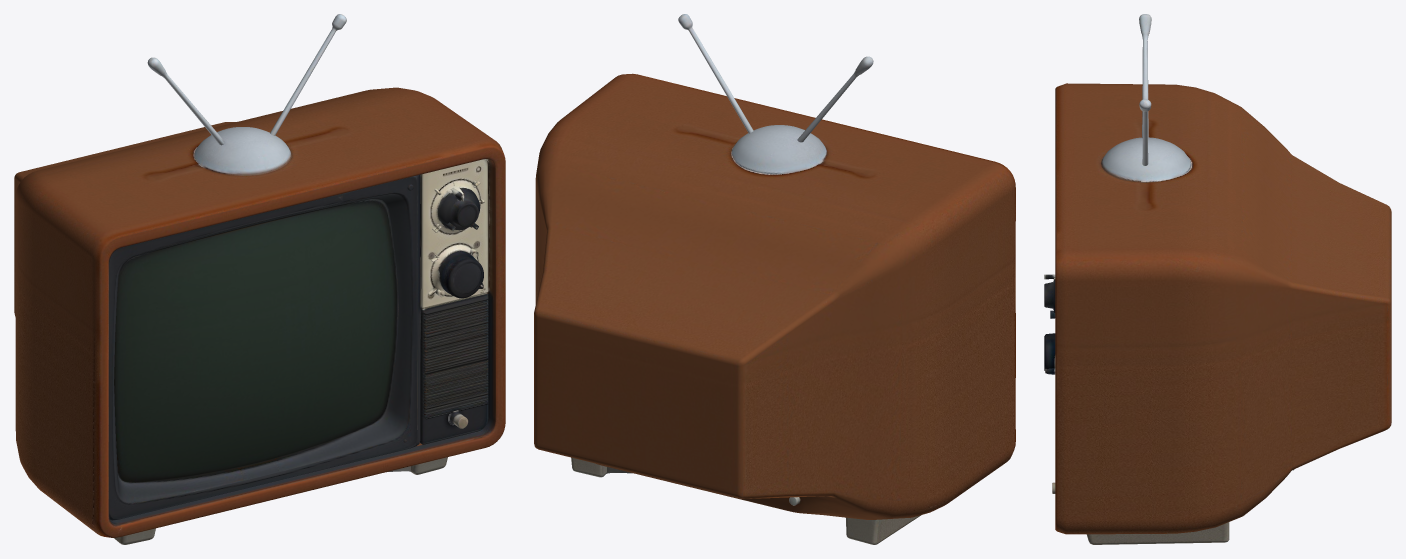
The model's file is tripo_convert_64b0368b-ca04-4807-9e11-103172707024.fbx.
3 renders of one model, left to right at view 1: azimuth 30°, elevation 25°; view 2: azimuth 150°, elevation 25°; view 3: azimuth 270°, elevation 25°, orthographic. The views are drawn at different scales.
Visible parts, largest first — view 1: tripo_node_64b0368b; view 2: tripo_node_64b0368b; view 3: tripo_node_64b0368b.
Boxes of the visible parts, <box> form: tripo_node_64b0368b: <box>14,14,505,544</box>; tripo_node_64b0368b: <box>534,14,1015,544</box>; tripo_node_64b0368b: <box>1044,14,1391,544</box>.
Bounding box in the file's own units: 0.9507 × 0.9995 × 0.7573.
Materials: 1 (1 with a texture image).
